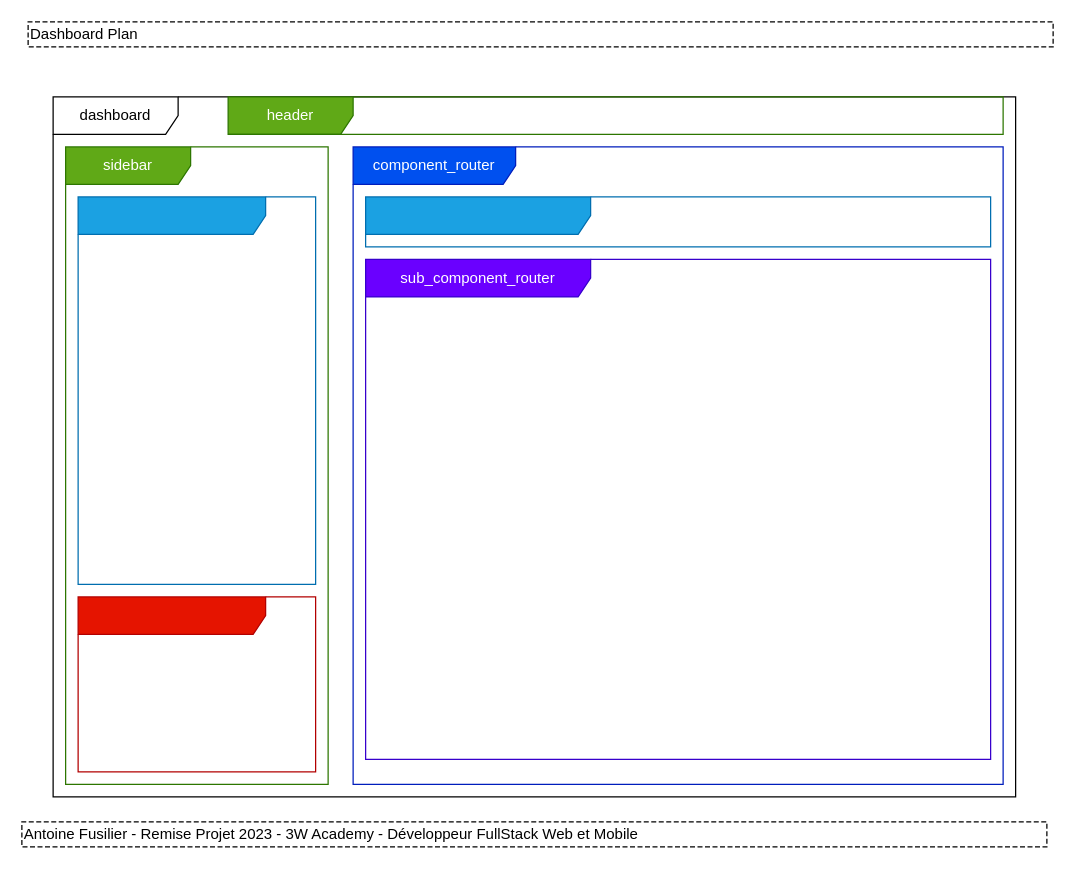
This 1075x869 diagram has some shape labels left out. Each missing label, with the box of its shape:
ACCOUNT: (77, 596, 316, 772)
Components Links: (77, 196, 316, 584)
sub_component_nav: (364, 196, 991, 247)
